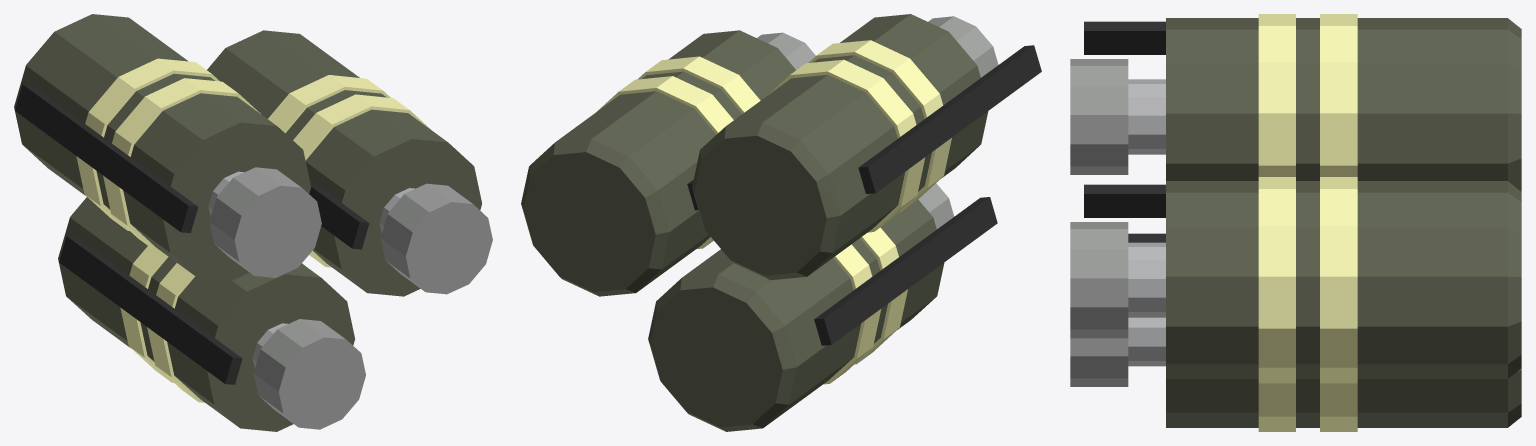
Rendered from ce_handgren_smoke_b.obj.
The picture shows the model from 3 angles, left to right: view 1: azimuth 30°, elevation 25°; view 2: azimuth 150°, elevation 25°; view 3: azimuth 270°, elevation 25°; orthographic projection. The views are drawn at different scales.
Parts seen in each view (by area): view 1: ce_handgren_smoke_b_g0_body, ce_handgren_smoke_b_g1_body, ce_handgren_smoke_b_g2_body, ce_handgren_smoke_b_g1_head, ce_handgren_smoke_b_g0_head, ce_handgren_smoke_b_g2_head, ce_handgren_smoke_b_g2_spoon, ce_handgren_smoke_b_g0_spoon, ce_handgren_smoke_b_g0_band0, ce_handgren_smoke_b_g0_band1, ce_handgren_smoke_b_g1_band0, ce_handgren_smoke_b_g1_band1 (+3 smaller); view 2: ce_handgren_smoke_b_g0_body, ce_handgren_smoke_b_g1_body, ce_handgren_smoke_b_g2_body, ce_handgren_smoke_b_g2_spoon, ce_handgren_smoke_b_g0_spoon, ce_handgren_smoke_b_g0_band1, ce_handgren_smoke_b_g0_band0, ce_handgren_smoke_b_g1_band1, ce_handgren_smoke_b_g1_band0, ce_handgren_smoke_b_g2_band1, ce_handgren_smoke_b_g2_band0, ce_handgren_smoke_b_g0_head (+2 smaller); view 3: ce_handgren_smoke_b_g1_body, ce_handgren_smoke_b_g0_body, ce_handgren_smoke_b_g2_body, ce_handgren_smoke_b_g1_band1, ce_handgren_smoke_b_g1_band0, ce_handgren_smoke_b_g1_head, ce_handgren_smoke_b_g0_head, ce_handgren_smoke_b_g0_band0, ce_handgren_smoke_b_g0_band1, ce_handgren_smoke_b_g2_head, ce_handgren_smoke_b_g0_neck, ce_handgren_smoke_b_g1_neck (+5 smaller).
Boxes of the visible parts, left/top/right/bottom form: ce_handgren_smoke_b_g0_body: left=14, top=14, right=311, bottom=280; ce_handgren_smoke_b_g1_body: left=207, top=30, right=482, bottom=296; ce_handgren_smoke_b_g2_body: left=58, top=197, right=354, bottom=431; ce_handgren_smoke_b_g1_head: left=380, top=183, right=492, bottom=294; ce_handgren_smoke_b_g0_head: left=209, top=167, right=321, bottom=277; ce_handgren_smoke_b_g2_head: left=253, top=319, right=365, bottom=429; ce_handgren_smoke_b_g2_spoon: left=59, top=236, right=242, bottom=384; ce_handgren_smoke_b_g0_spoon: left=15, top=84, right=198, bottom=233; ce_handgren_smoke_b_g0_band0: left=103, top=78, right=261, bottom=250; ce_handgren_smoke_b_g0_band1: left=76, top=58, right=219, bottom=230; ce_handgren_smoke_b_g1_band0: left=293, top=94, right=430, bottom=267; ce_handgren_smoke_b_g1_band1: left=268, top=75, right=390, bottom=133; ce_handgren_smoke_b_g0_body: left=692, top=14, right=988, bottom=280; ce_handgren_smoke_b_g1_body: left=521, top=30, right=795, bottom=296; ce_handgren_smoke_b_g2_body: left=648, top=199, right=944, bottom=431; ce_handgren_smoke_b_g2_spoon: left=814, top=197, right=997, bottom=345; ce_handgren_smoke_b_g0_spoon: left=858, top=45, right=1041, bottom=193; ce_handgren_smoke_b_g0_band1: left=766, top=59, right=925, bottom=232; ce_handgren_smoke_b_g0_band0: left=808, top=40, right=951, bottom=212; ce_handgren_smoke_b_g1_band1: left=597, top=76, right=733, bottom=248; ce_handgren_smoke_b_g1_band0: left=637, top=56, right=760, bottom=113; ce_handgren_smoke_b_g2_band1: left=824, top=244, right=881, bottom=384; ce_handgren_smoke_b_g2_band0: left=854, top=227, right=907, bottom=364; ce_handgren_smoke_b_g0_head: left=928, top=16, right=998, bottom=77; ce_handgren_smoke_b_g1_body: left=1166, top=181, right=1521, bottom=378; ce_handgren_smoke_b_g0_body: left=1166, top=18, right=1521, bottom=191; ce_handgren_smoke_b_g2_body: left=1166, top=368, right=1521, bottom=427; ce_handgren_smoke_b_g1_band1: left=1320, top=177, right=1357, bottom=383; ce_handgren_smoke_b_g1_band0: left=1258, top=177, right=1295, bottom=383; ce_handgren_smoke_b_g1_head: left=1070, top=222, right=1128, bottom=338; ce_handgren_smoke_b_g0_head: left=1070, top=59, right=1128, bottom=174; ce_handgren_smoke_b_g0_band0: left=1258, top=14, right=1295, bottom=176; ce_handgren_smoke_b_g0_band1: left=1320, top=14, right=1357, bottom=176; ce_handgren_smoke_b_g2_head: left=1070, top=338, right=1128, bottom=386; ce_handgren_smoke_b_g0_neck: left=1128, top=79, right=1165, bottom=154; ce_handgren_smoke_b_g1_neck: left=1128, top=242, right=1165, bottom=317.
Bounding box in the file's own units: 0.1654 × 0.1509 × 0.165.
